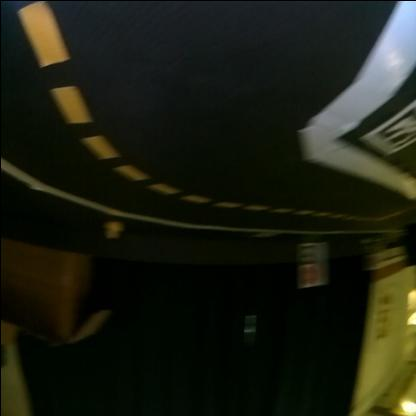Duckie: (103, 221, 121, 237)
QR code: (358, 99, 414, 155), (296, 244, 314, 264)
Stop sign: (296, 266, 316, 286)
